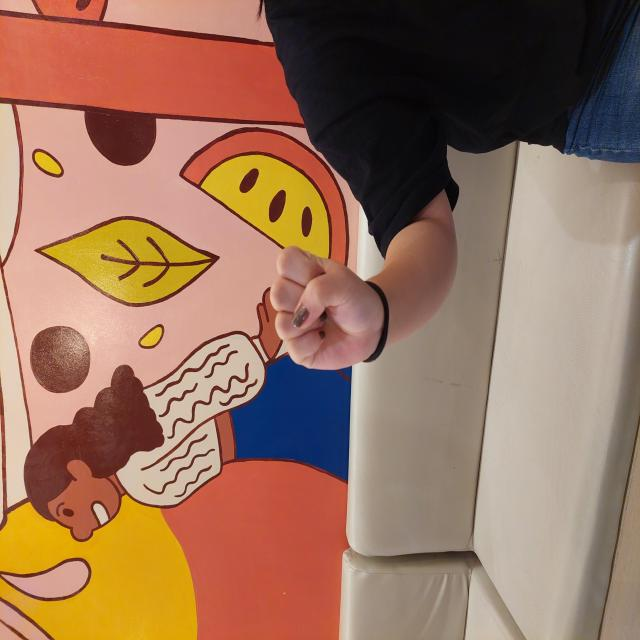S: (269, 269, 397, 383)
